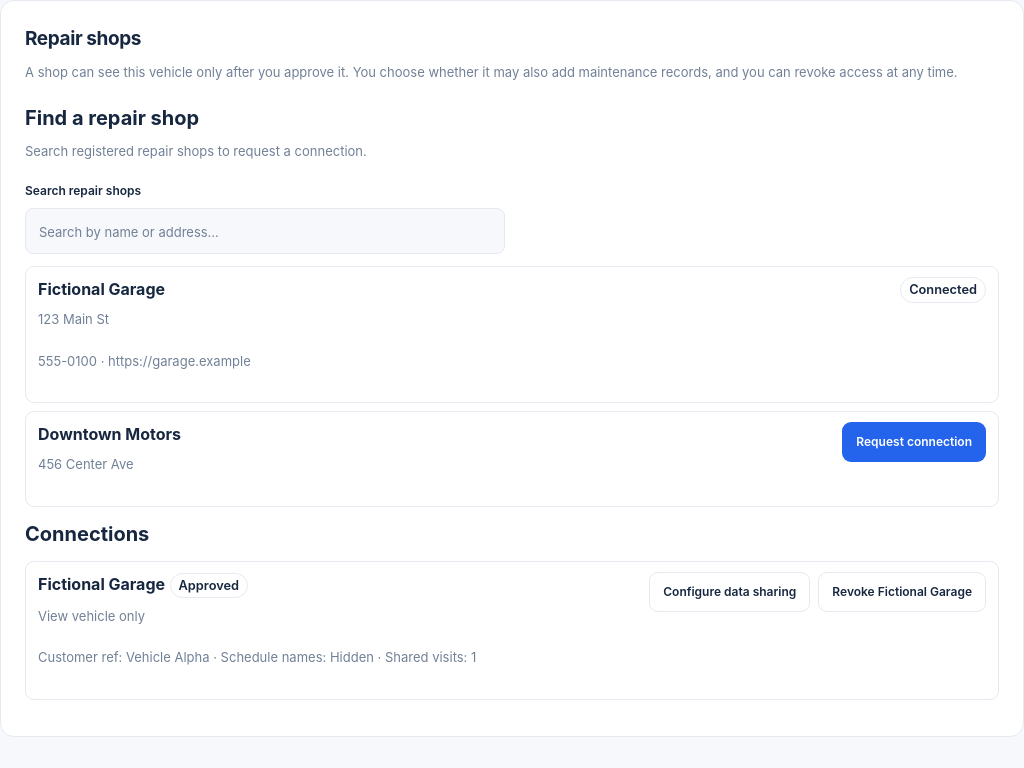
Scenario: configures and saves owner-controlled data sharing for approved shops
This screenshot has width=1024, height=768.
Expected: the text "Approved" is shown, [170, 573, 248, 598]
Expected: the text "Shared visits: 1" is shown, [38, 647, 476, 669]
Click the button "Configure data sharing".
click(730, 592)  # box [649, 572, 810, 612]
(page scrolled)
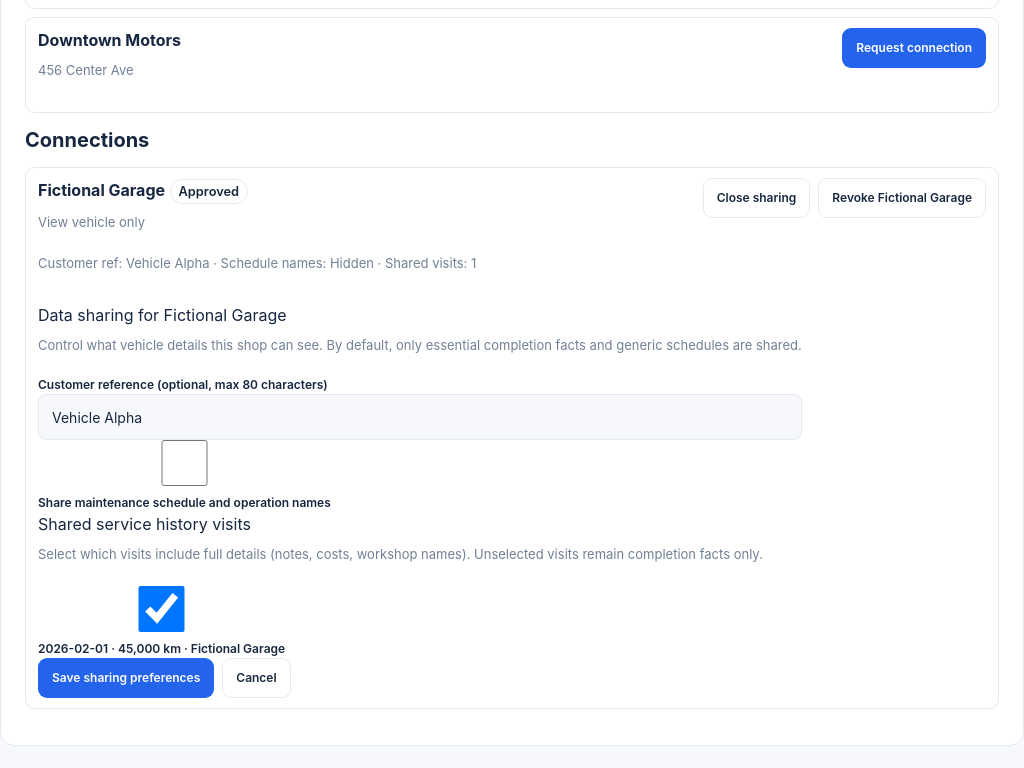
Now the heading "Data sharing for Fictional Garage" is shown, box [38, 305, 287, 325]
Now the text "2026-02-01 · 45,000 km · Fictional Garage" is shown, box [38, 586, 285, 658]
Now the field labelled "Customer reference (optional, max 80 characters)" holds "Vehicle Alpha"
Replace the text in the field labelled "Customer reference (optional, max 80 characters)" with "Fleet Car 01" at (420, 417), box [38, 394, 802, 440]
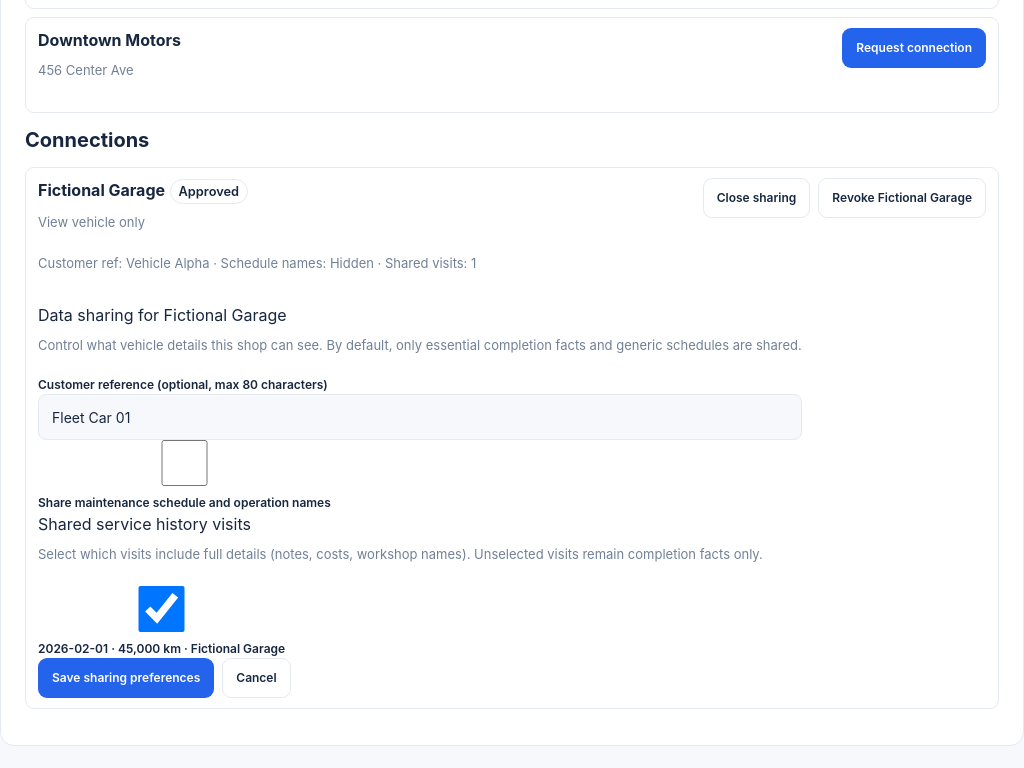
Now the checkbox labelled "Share maintenance schedule and operation names" is not checked
Click the checkbox labelled "Share maintenance schedule and operation names".
click(184, 463)  # box [38, 440, 331, 486]
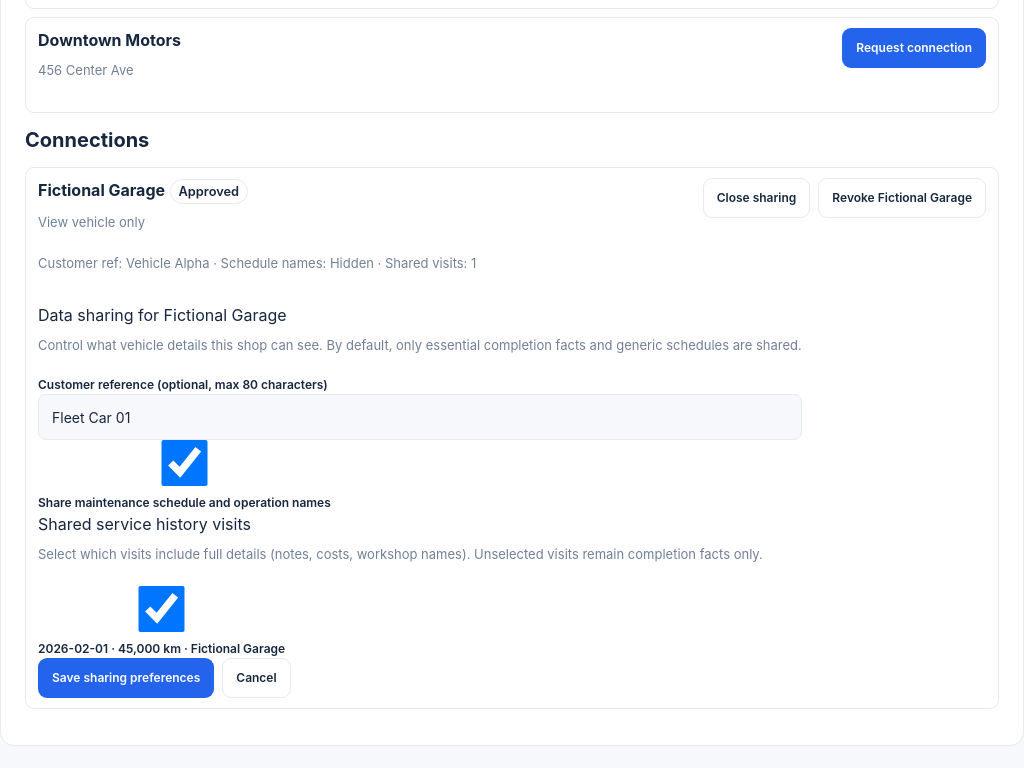
Click the button "Save sharing preferences".
click(126, 678)  # box [38, 658, 214, 698]
(page scrolled)
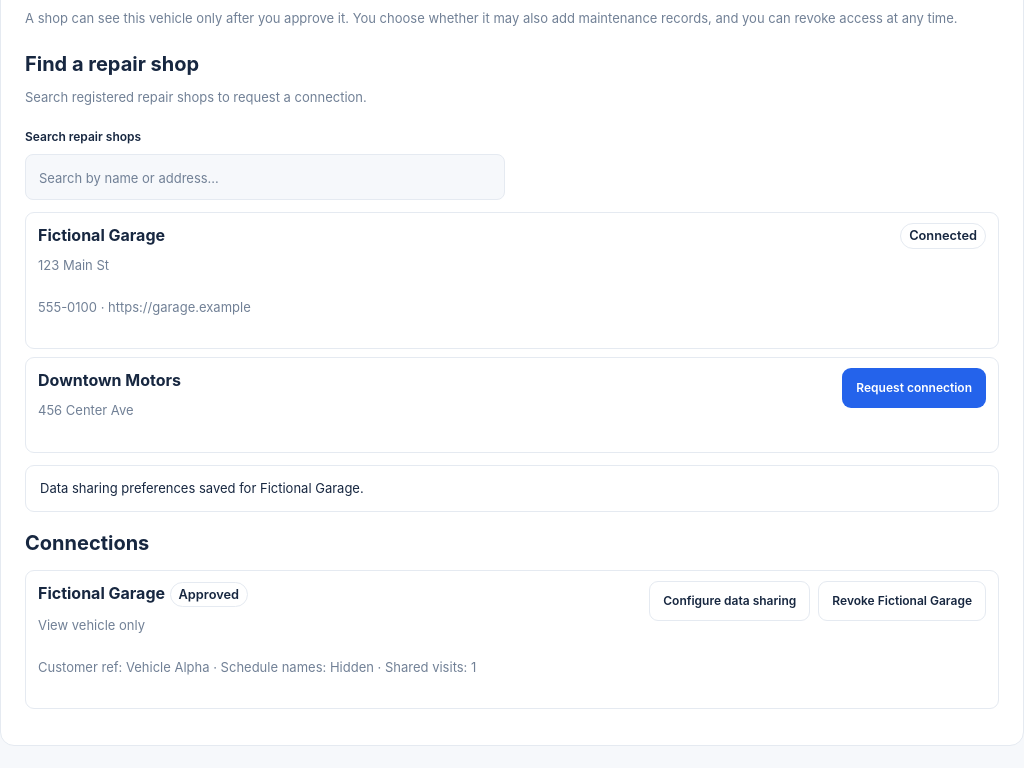
Now the text "Data sharing preferences saved for Fictional Garage." is shown, box [25, 465, 999, 512]
